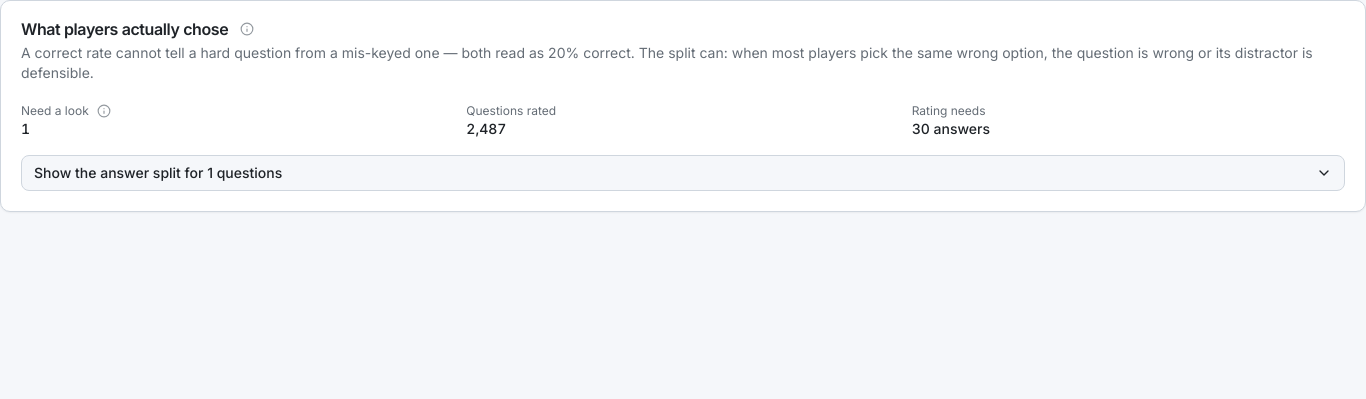
Test case: questionQuality › renders the list only once opened, and hides it again
This screenshot has width=1366, height=399.
What coordinates should you click on to do the following:
click the button "Show the answer split for 1 questions"
I would click on:
 (158, 172)
Its box is [21,155,1345,191].
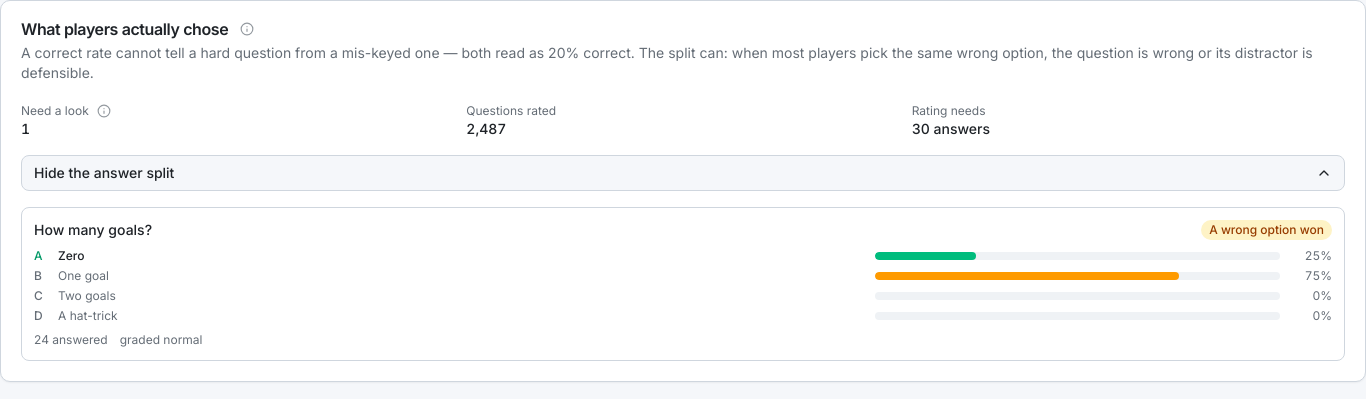
Expected: the text "How many goals?" is shown, [34,221,152,238]
What coordinates should you click on to do the following:
click the button "Hide the answer split"
I would click on:
 (104, 172)
Its box is [21,155,1345,191].
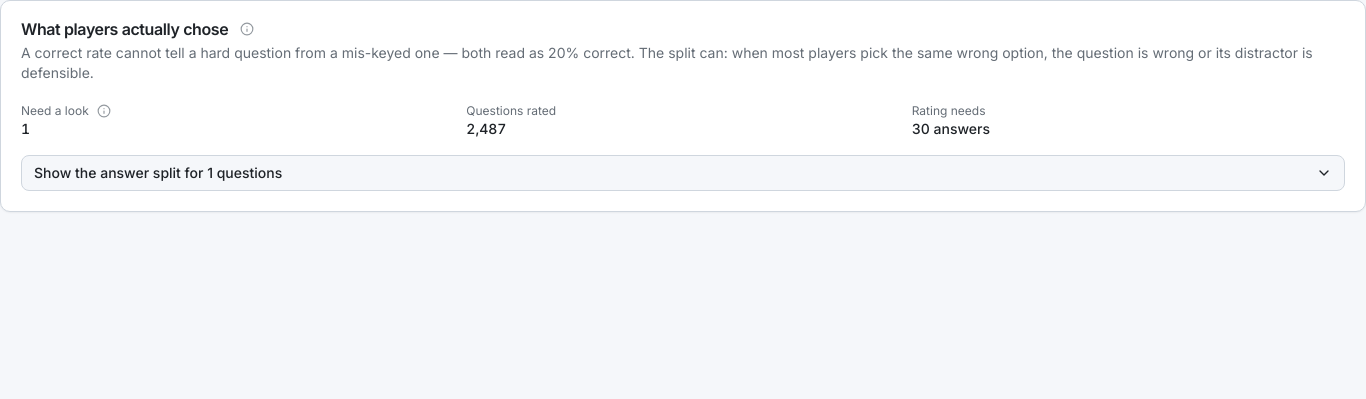
Expected: the text "How many goals?" is gone
